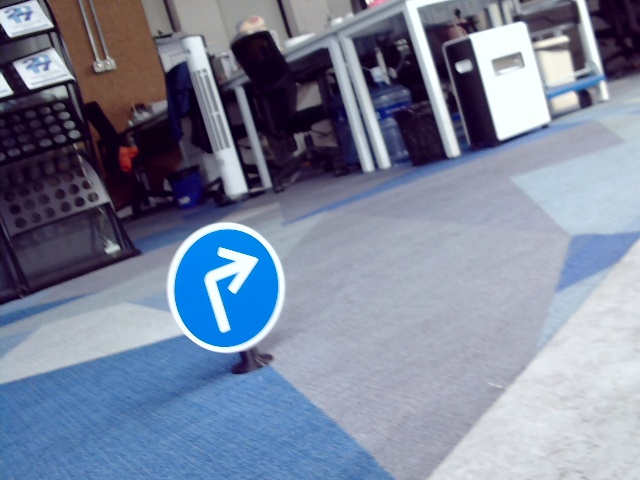turn_right: (194, 249, 262, 330)
